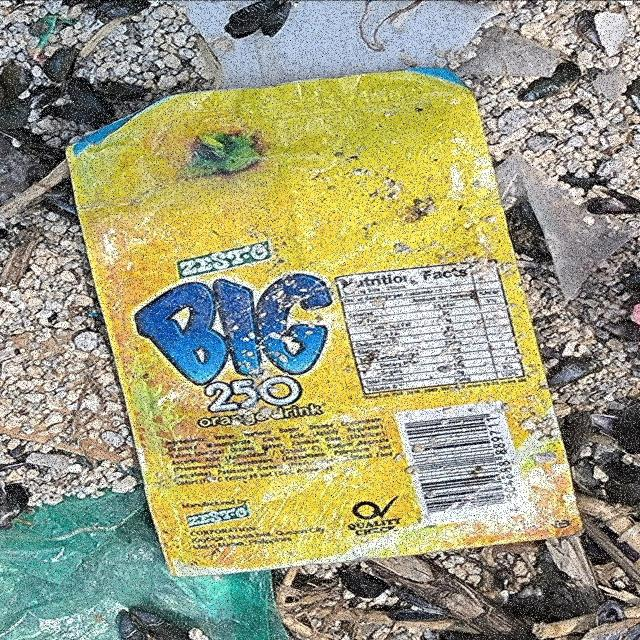plastic_waste: (62, 66, 590, 580)
